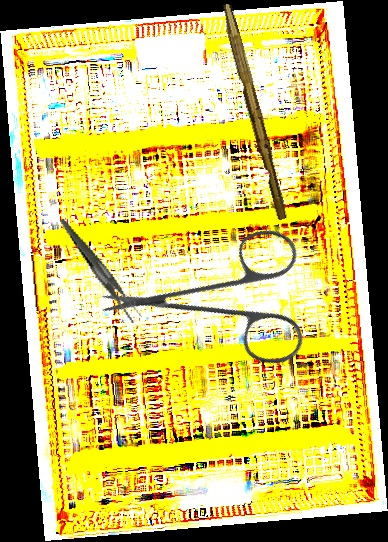Dressing Forceps: (60, 205, 143, 335)
Iris Scissors: (94, 170, 352, 428)
Scalpel Handle: (215, 3, 293, 221)
